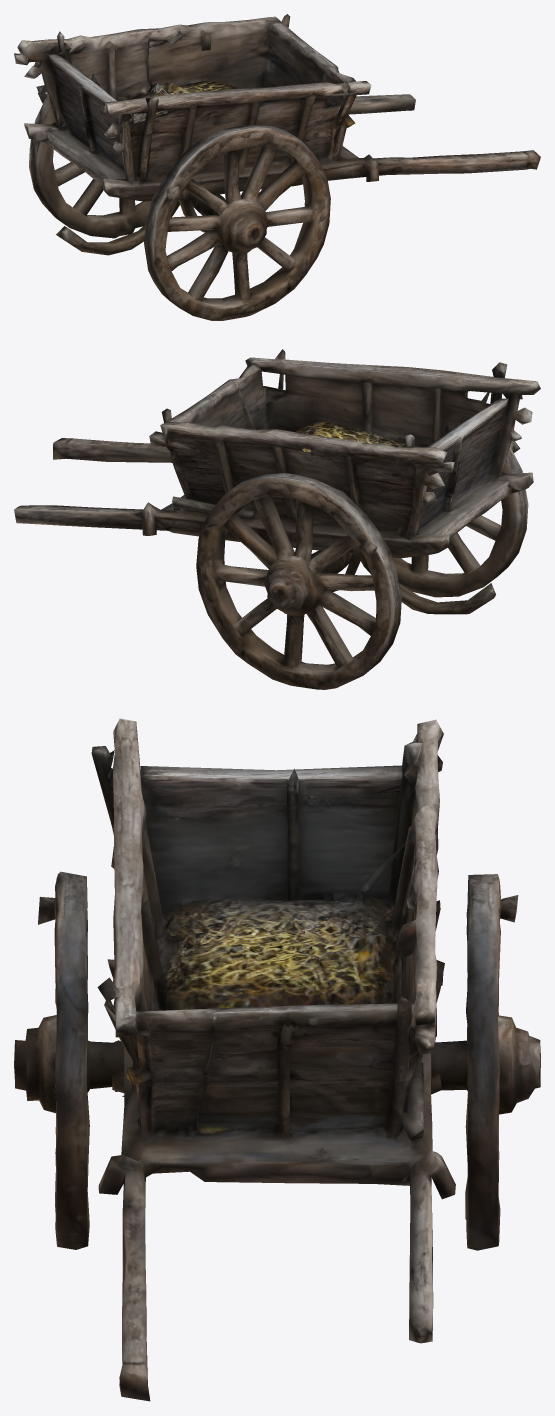
File: ul_cart.glb
3 renders of one model, top to bottom at view 1: azimuth 30°, elevation 25°; view 2: azimuth 150°, elevation 25°; view 3: azimuth 270°, elevation 25°, orthographic. The views are drawn at different scales.
Parts seen in each view (by area): view 1: tripo_node_12bede47-65ed-4254-a5c5-44de34bbfc60; view 2: tripo_node_12bede47-65ed-4254-a5c5-44de34bbfc60; view 3: tripo_node_12bede47-65ed-4254-a5c5-44de34bbfc60.
Part boxes in pixels (x1,y1,x2,y2): tripo_node_12bede47-65ed-4254-a5c5-44de34bbfc60: (14, 14, 540, 320); tripo_node_12bede47-65ed-4254-a5c5-44de34bbfc60: (14, 349, 540, 689); tripo_node_12bede47-65ed-4254-a5c5-44de34bbfc60: (14, 718, 540, 1401).
Bounding box in the file's own units: 1 × 0.5058 × 0.5778.
1 material, 1 textured.
